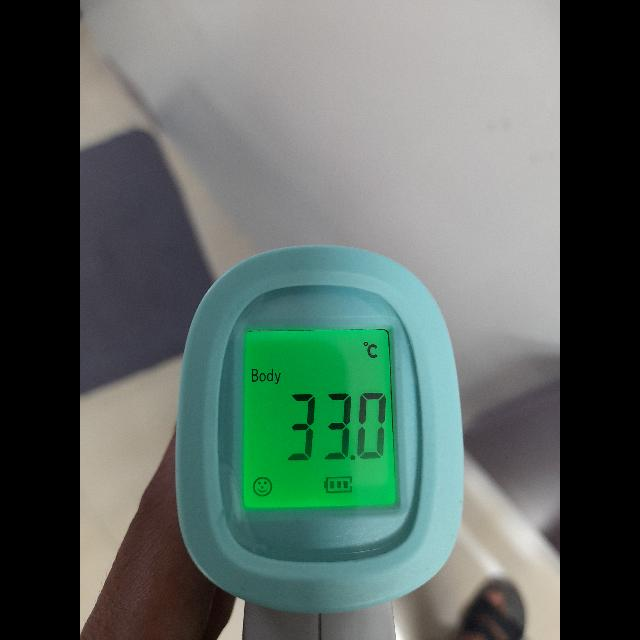Glucose-Meter: (174, 246, 466, 614)
